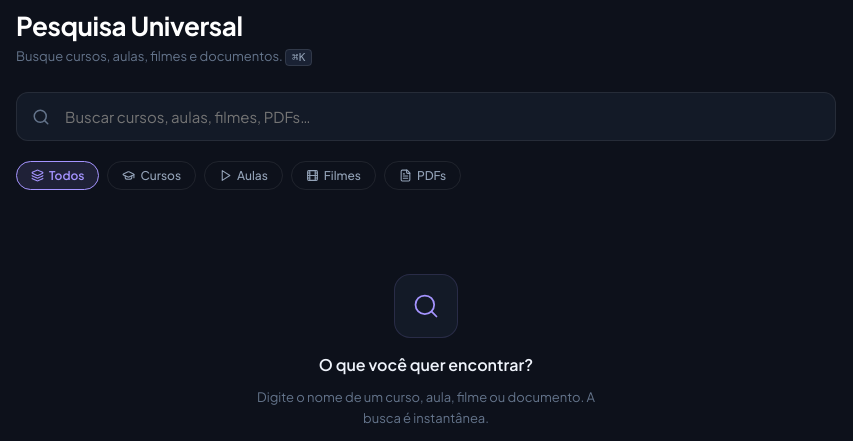
Test: SearchView Component › exibe estado "sem resultados" quando query não encontra nada
This screenshot has width=853, height=441.
Type "xyzzy_inexistente_42" into the search field at (426, 116), box [16,92,836,141]
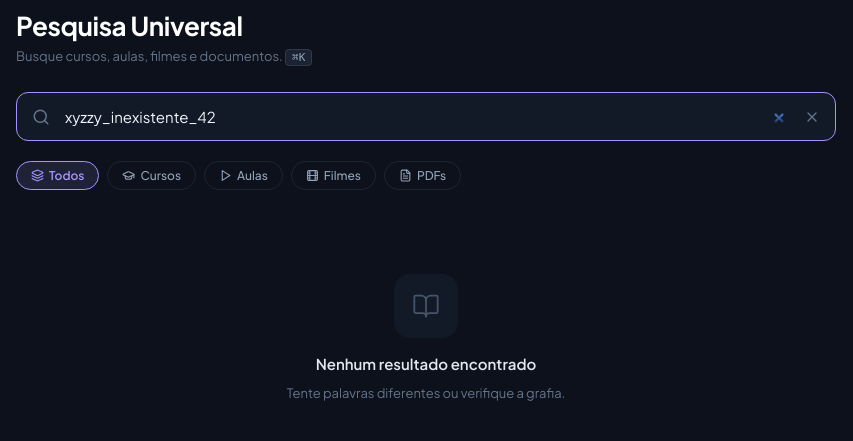
Check: the element with test id "search-no-results" is shown, box [287,274,565,401]
